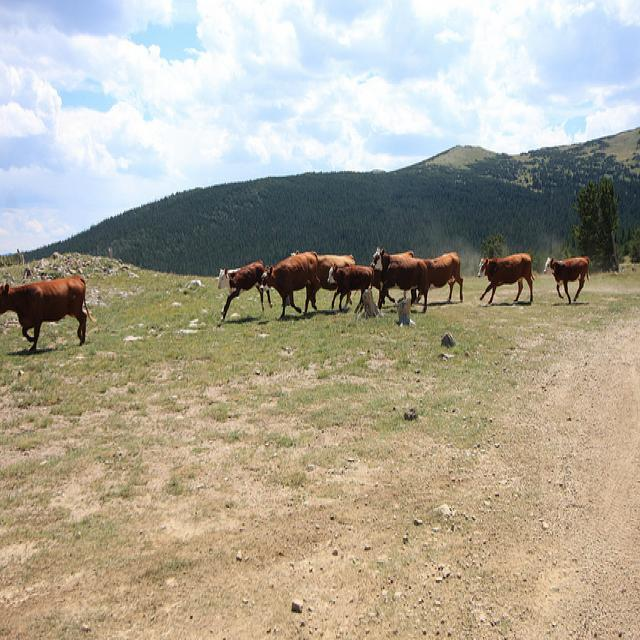cow: (0, 273, 96, 349), (258, 251, 319, 317), (368, 245, 427, 311), (216, 260, 271, 320), (476, 250, 533, 303), (413, 250, 461, 300), (326, 264, 372, 312), (541, 255, 589, 300), (372, 247, 413, 297), (314, 252, 354, 292)
